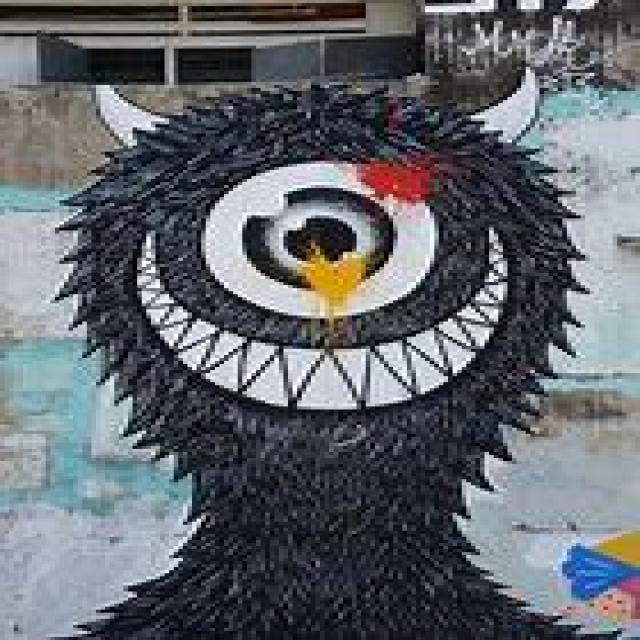nonspitting: (59, 70, 620, 638), (457, 15, 603, 69)
